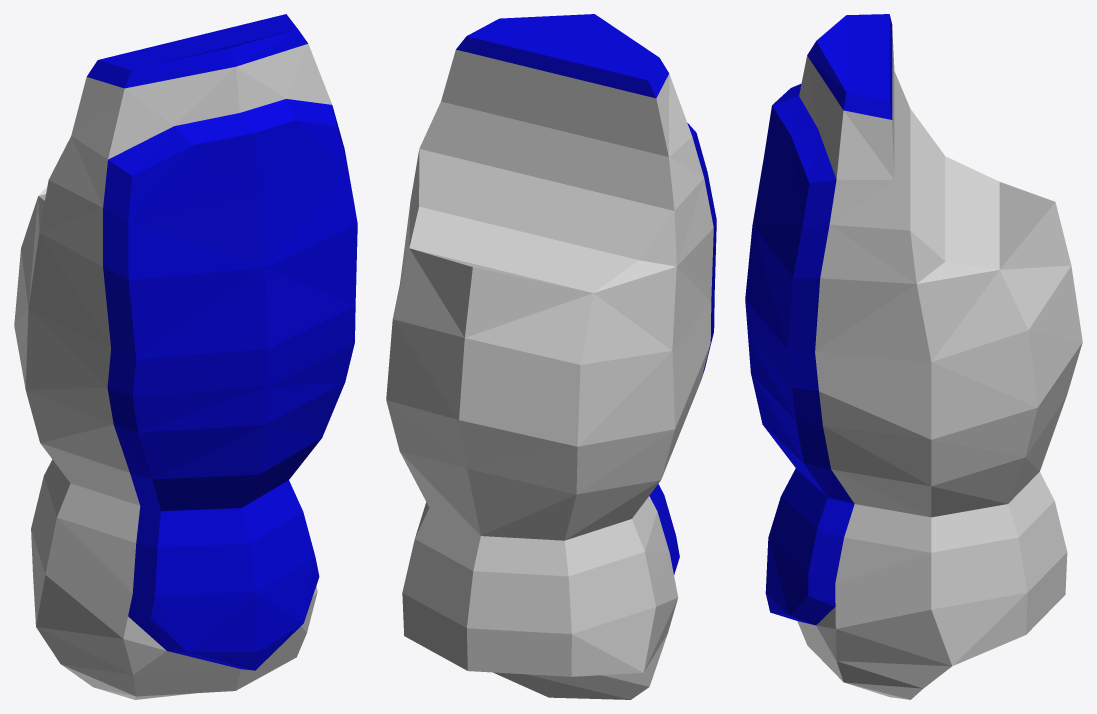
File: antebrazoizquierdo.dae
3 views of the same model, side by side, from view 1: azimuth 30°, elevation 25°; view 2: azimuth 150°, elevation 25°; view 3: azimuth 270°, elevation 25° (orthographic). The views are drawn at different scales.
Parts seen in each view (by area): view 1: lowerarm_001, lowerarm_000; view 2: lowerarm_000, lowerarm_001; view 3: lowerarm_000, lowerarm_001.
Part boxes in pixels (bbox=[...]): lowerarm_001: bbox=[87, 14, 357, 670]; lowerarm_000: bbox=[14, 44, 332, 699]; lowerarm_000: bbox=[386, 49, 713, 699]; lowerarm_001: bbox=[456, 14, 716, 574]; lowerarm_000: bbox=[797, 31, 1082, 699]; lowerarm_001: bbox=[745, 14, 892, 625].
Size of the model in its own units: 0.5542 by 0.5941 by 1.24.
